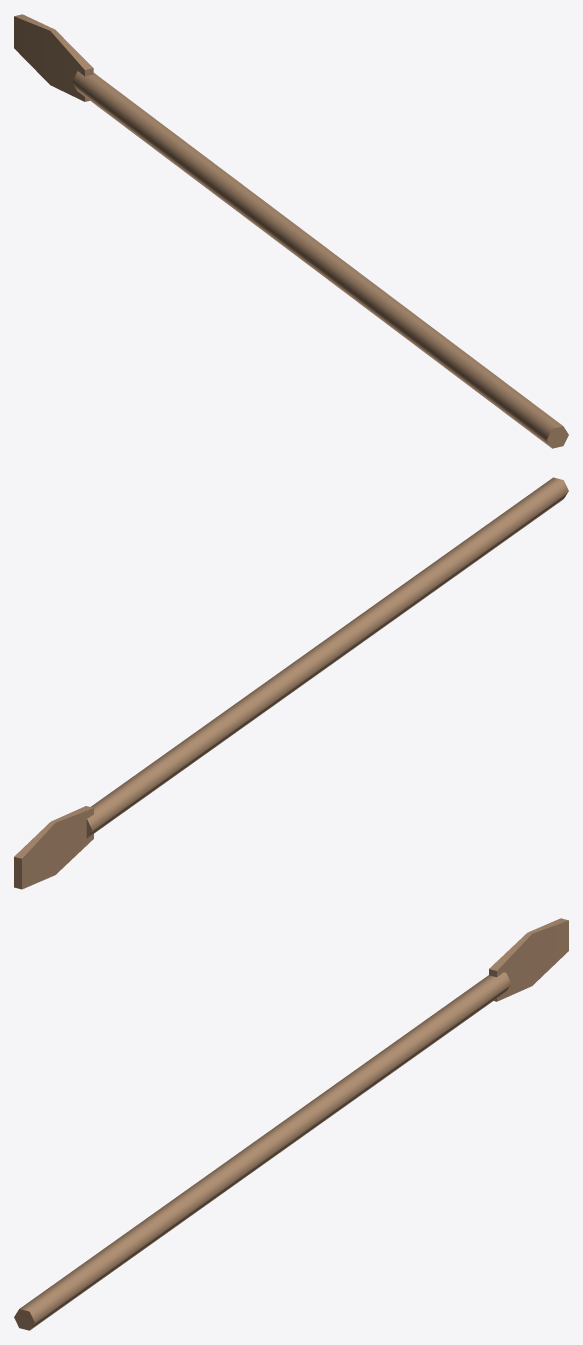
File: cozy_lake_cylinder007.glb
3 renders of one model, top to bottom at view 1: azimuth 30°, elevation 25°; view 2: azimuth 150°, elevation 25°; view 3: azimuth 330°, elevation 25°, orthographic. The views are drawn at different scales.
Visible parts, largest first — view 1: Cylinder007_Sand_0; view 2: Cylinder007_Sand_0; view 3: Cylinder007_Sand_0.
Boxes of the visible parts, <box> form: Cylinder007_Sand_0: <box>14,14,568,448</box>; Cylinder007_Sand_0: <box>14,477,568,889</box>; Cylinder007_Sand_0: <box>14,918,568,1330</box>.
Size of the model in its own units: 1.01 by 1.62 by 29.76.
